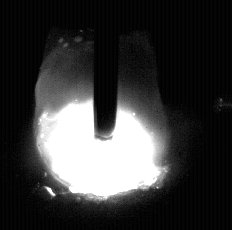arame: (95, 0, 118, 140)
poca: (34, 0, 171, 230)
